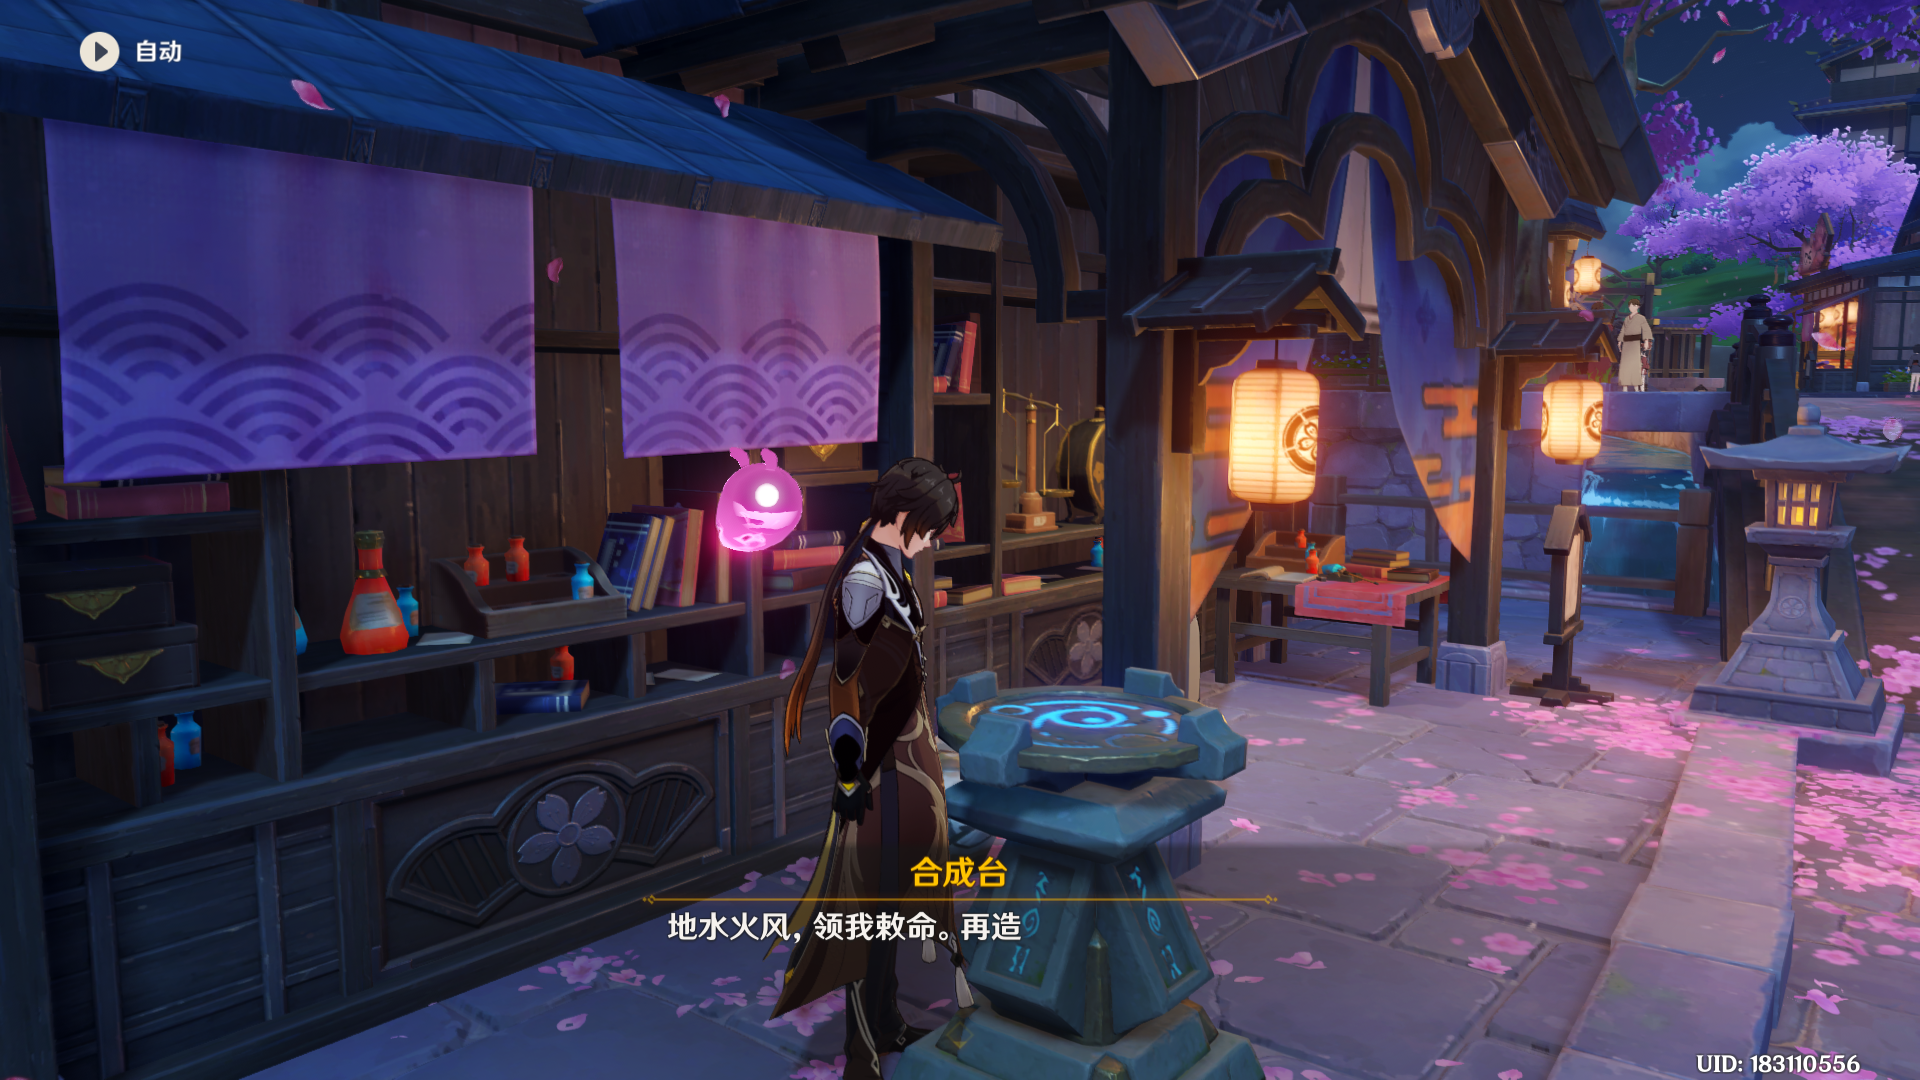character: (715, 446, 1063, 1080)
